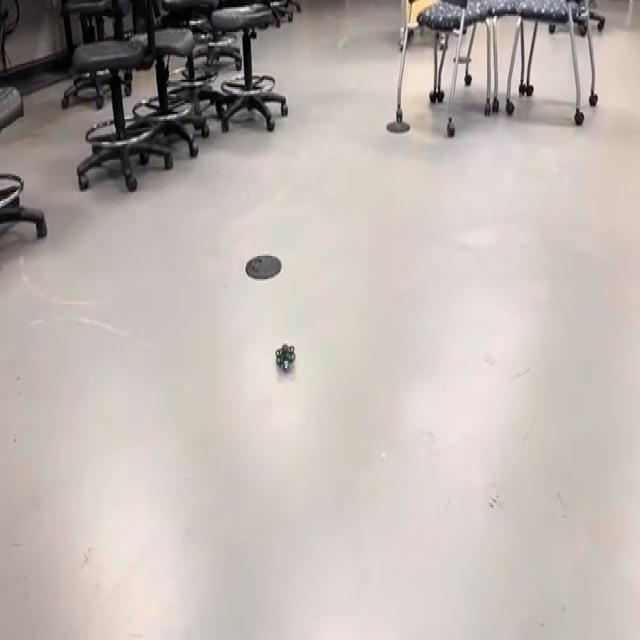drone: (268, 330, 304, 380)
